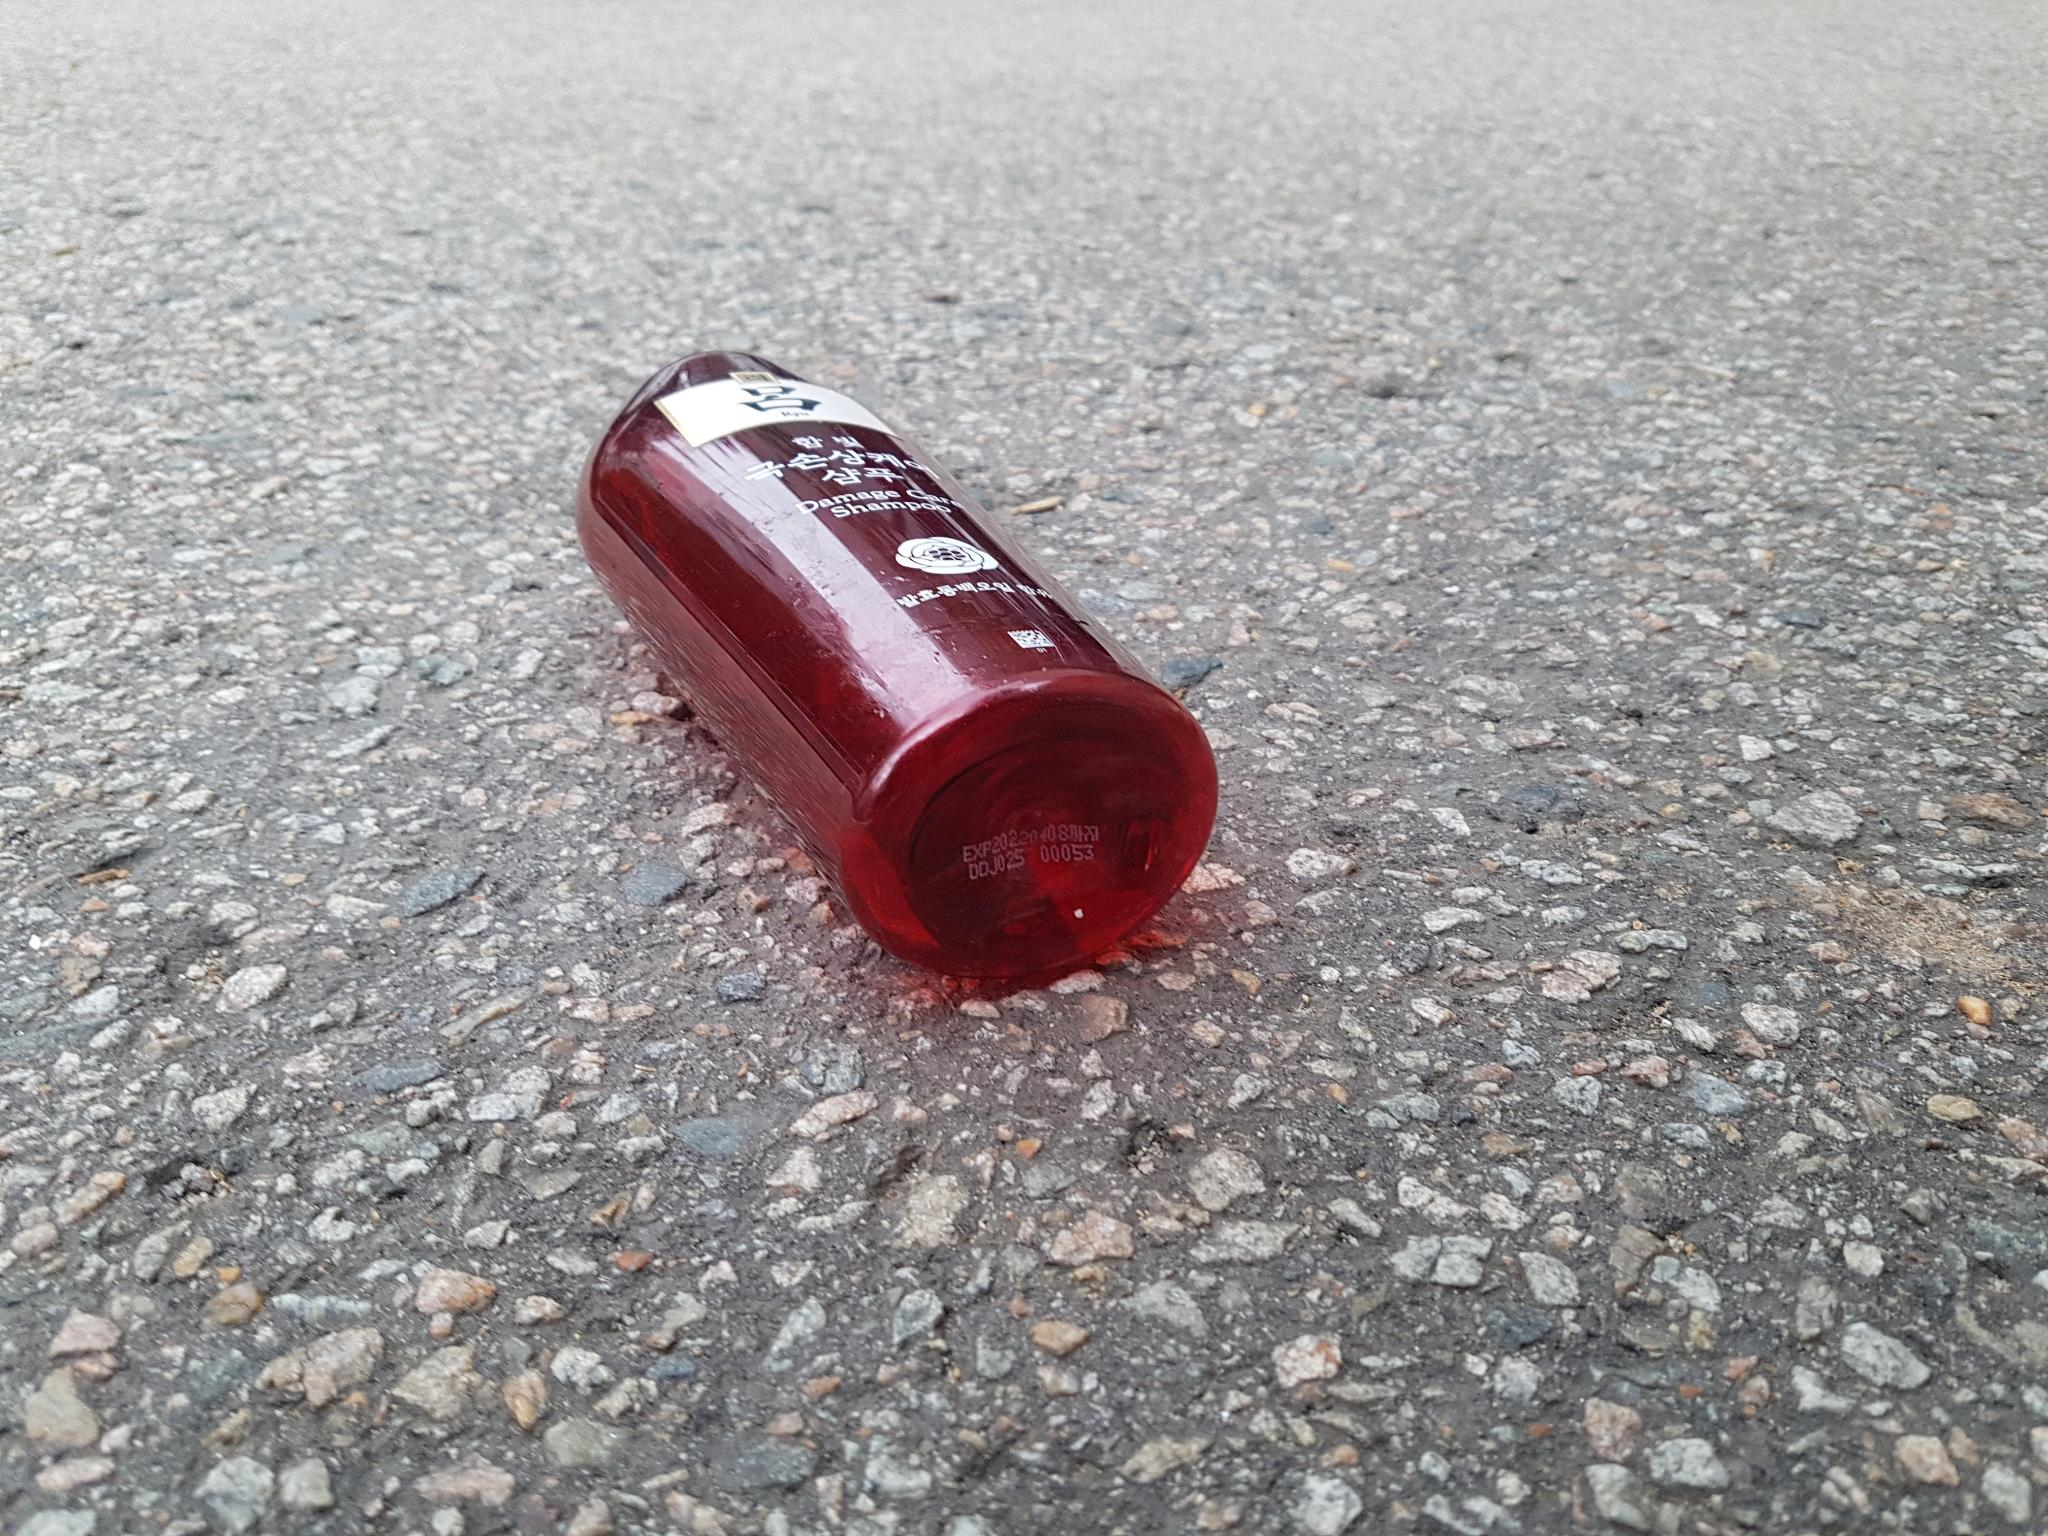bottle: (520, 323, 1238, 1033)
